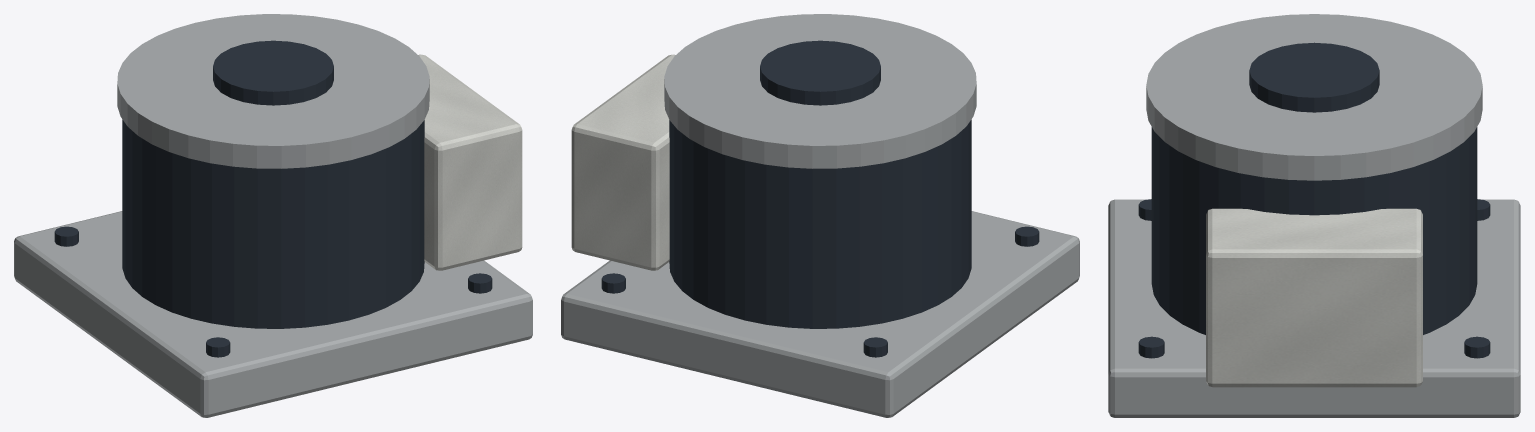
The model's file is reaction_wheel.glb.
3 renders of one model, left to right at view 1: azimuth 30°, elevation 25°; view 2: azimuth 150°, elevation 25°; view 3: azimuth 270°, elevation 25°, orthographic. The views are drawn at different scales.
Parts seen in each view (by area): view 1: Wheel_SealedHousing, Assembly_Mount, Housing_Lid, Drive_Electronics, Bearing_Cover; view 2: Wheel_SealedHousing, Assembly_Mount, Housing_Lid, Drive_Electronics, Bearing_Cover; view 3: Housing_Lid, Drive_Electronics, Assembly_Mount, Wheel_SealedHousing, Bearing_Cover, Mount_Fastener.054, Mount_Fastener.055.
Boxes of the visible parts, x1,y1,x2,y2 form: Wheel_SealedHousing: [122, 119, 424, 328]; Assembly_Mount: [14, 211, 532, 417]; Housing_Lid: [117, 14, 429, 168]; Drive_Electronics: [418, 54, 522, 270]; Bearing_Cover: [213, 40, 333, 105]; Wheel_SealedHousing: [669, 119, 971, 328]; Assembly_Mount: [561, 211, 1079, 417]; Housing_Lid: [664, 14, 976, 168]; Drive_Electronics: [571, 54, 675, 270]; Bearing_Cover: [760, 40, 880, 105]; Housing_Lid: [1146, 14, 1482, 180]; Drive_Electronics: [1206, 208, 1422, 387]; Assembly_Mount: [1108, 199, 1520, 417]; Wheel_SealedHousing: [1151, 127, 1477, 334]; Bearing_Cover: [1249, 42, 1379, 112]; Mount_Fastener.054: [1138, 336, 1164, 358]; Mount_Fastener.055: [1464, 336, 1490, 358].
Size of the model in its own units: 0.42 by 0.2675 by 0.38.
Materials: 3 (1 with a texture image).
